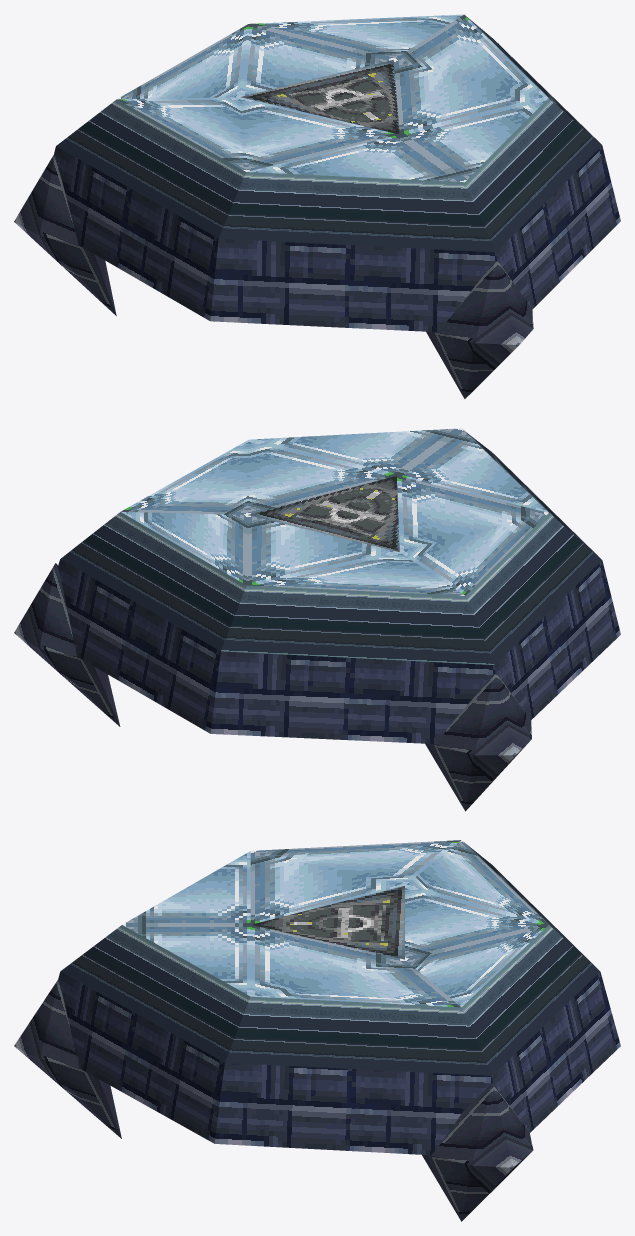
Rendered from 1e-timed-mine-fp.glb.
The picture shows the model from 3 angles, top to bottom: view 1: azimuth 30°, elevation 25°; view 2: azimuth 150°, elevation 25°; view 3: azimuth 270°, elevation 25°; orthographic projection.
Visible parts, largest first — view 1: gun; view 2: gun; view 3: gun.
Boxes of the visible parts, x1,y1,x2,y2 form: gun: [14, 14, 620, 398]; gun: [14, 428, 620, 811]; gun: [14, 840, 620, 1221].
Size of the model in its own units: 135 by 55.29 by 142.
5 materials, 5 textured.
